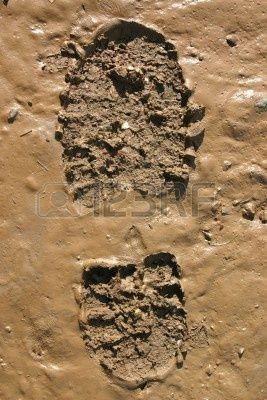human_footprint: (65, 16, 205, 387)
